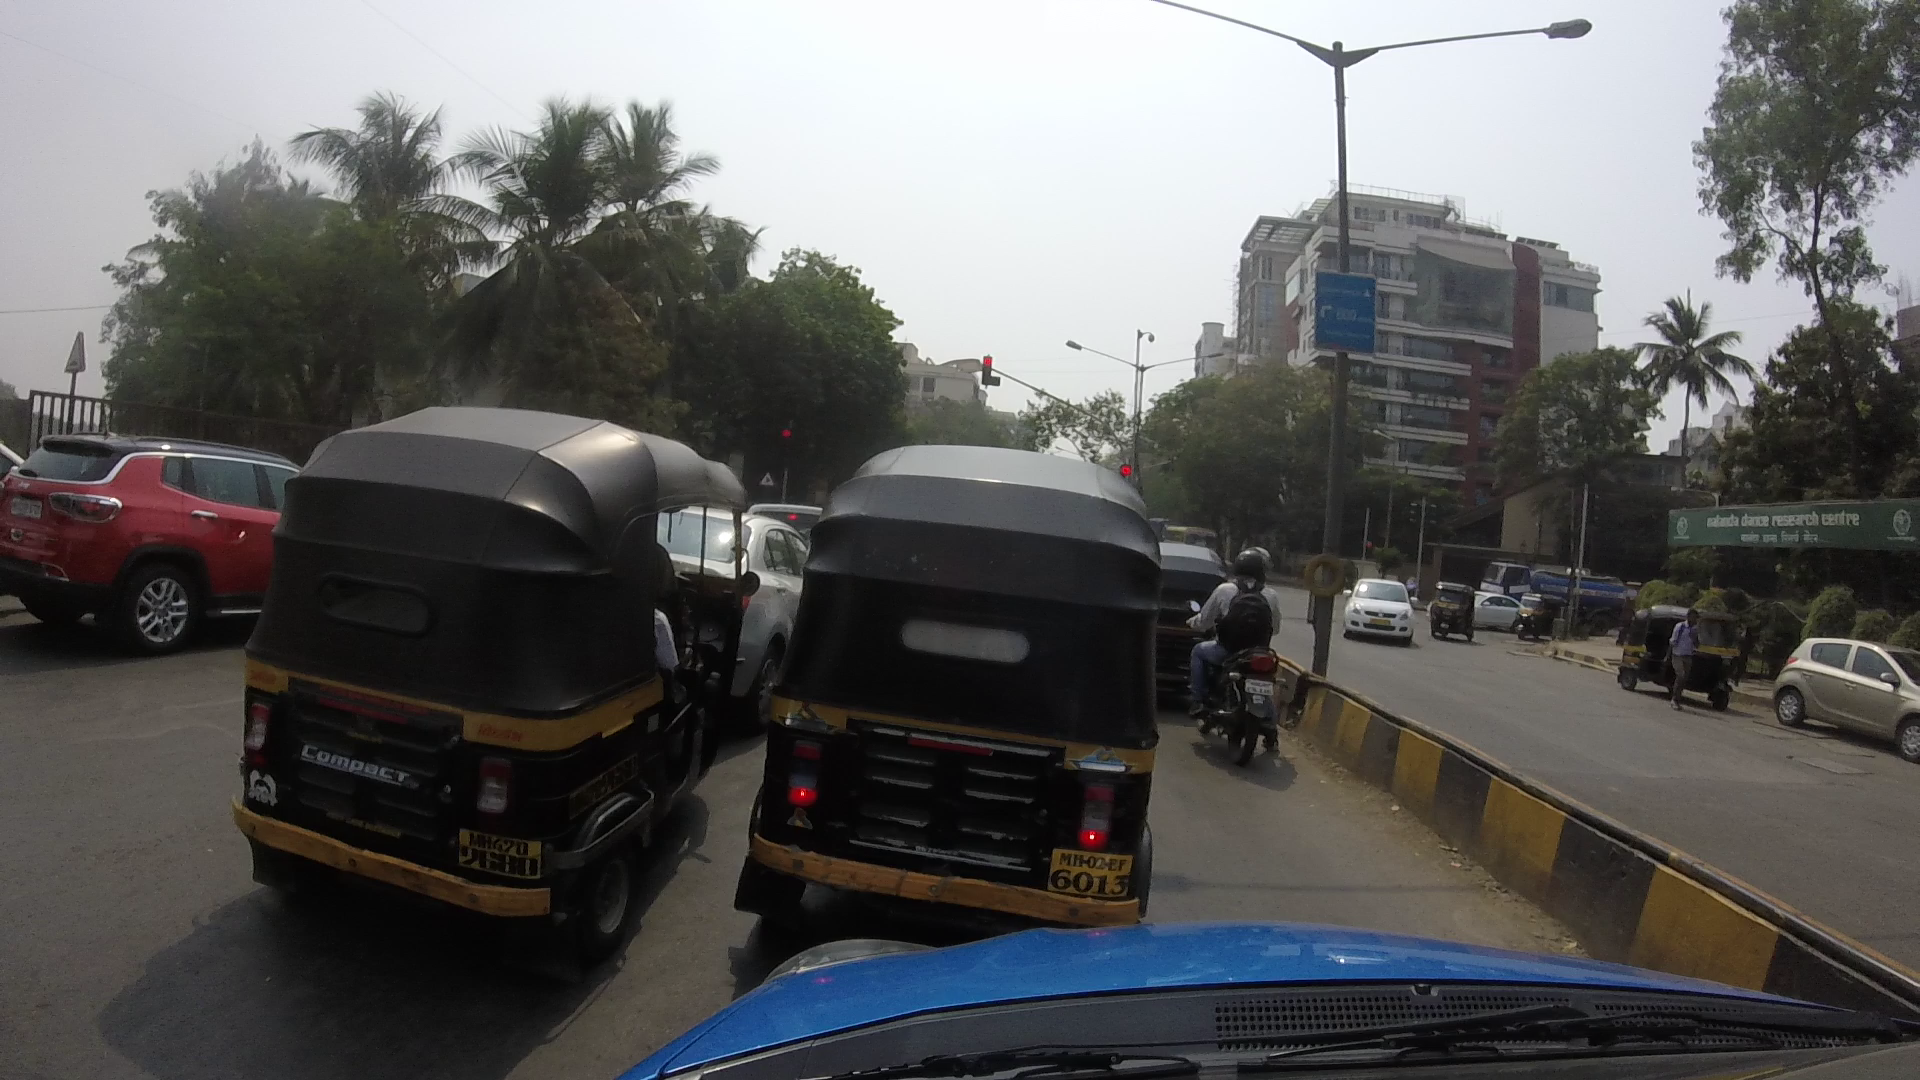bike/scooter: (1183, 522, 1333, 754)
car: (1, 407, 289, 645), (1760, 607, 1920, 785)
rickshaw: (207, 419, 760, 967), (754, 422, 1195, 938), (1586, 563, 1739, 725)
